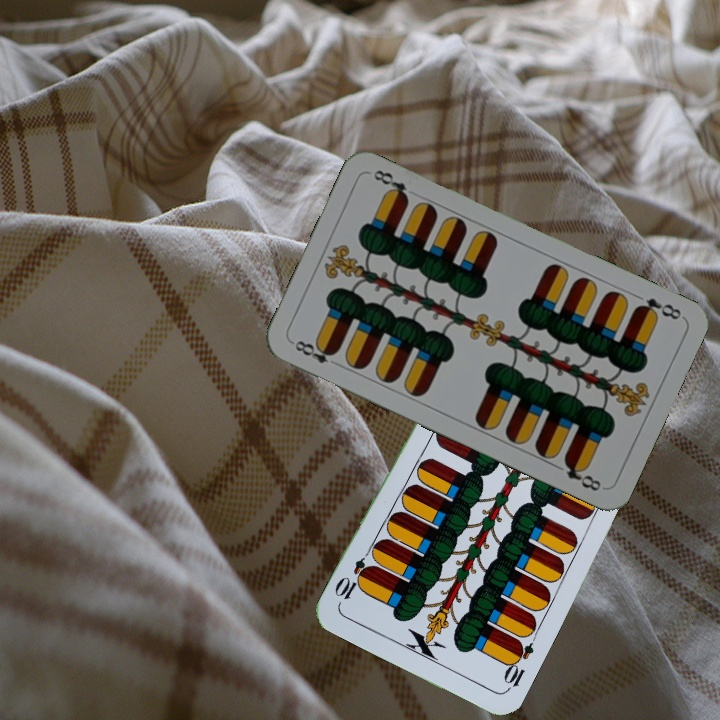E10: (499, 636, 537, 694)
E8: (288, 336, 340, 367), (631, 293, 684, 323)
